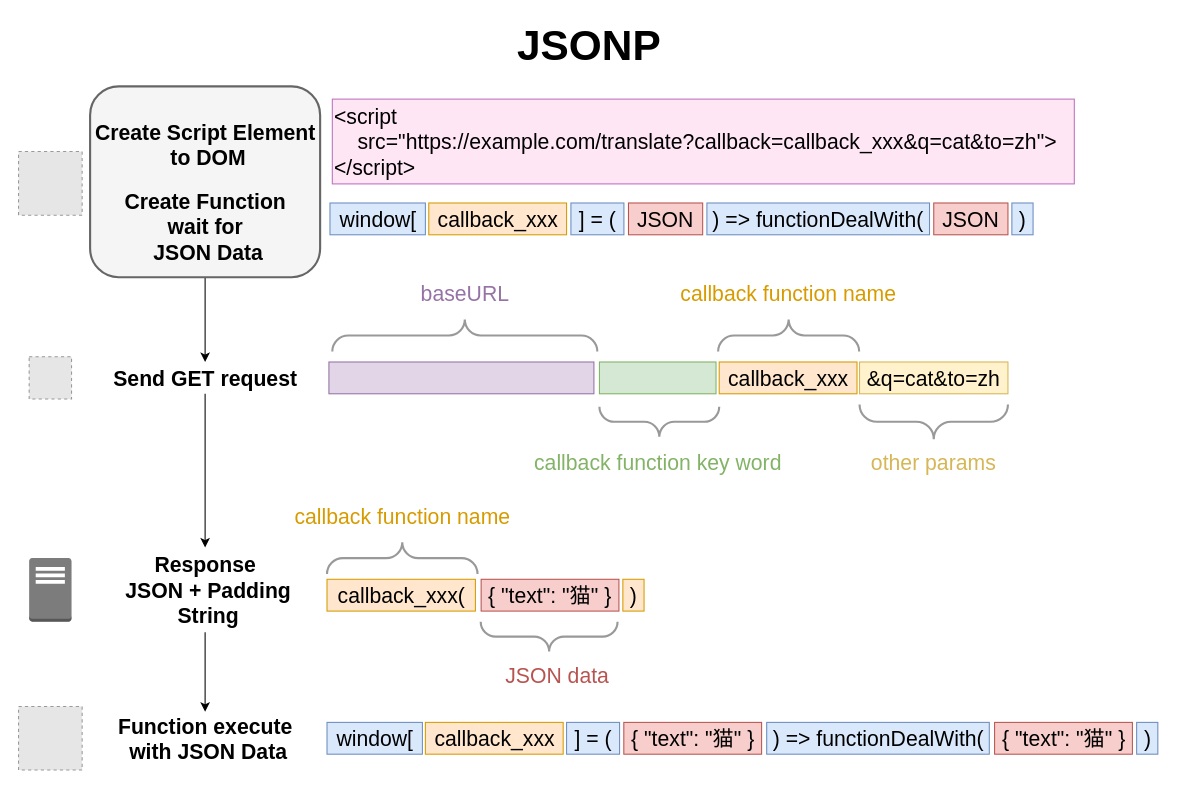
Image size: 1177x789. Some labels were removed from this diagram. Grey dashed boxes stand in for pictures. The shapes that lost their labels are listed below. From the top down, each one's box as (x1, y1, x2, y2) in pixels, then its label:
(328, 361, 594, 394): https://baidu.com/translate
(598, 361, 716, 394): ?callback=
